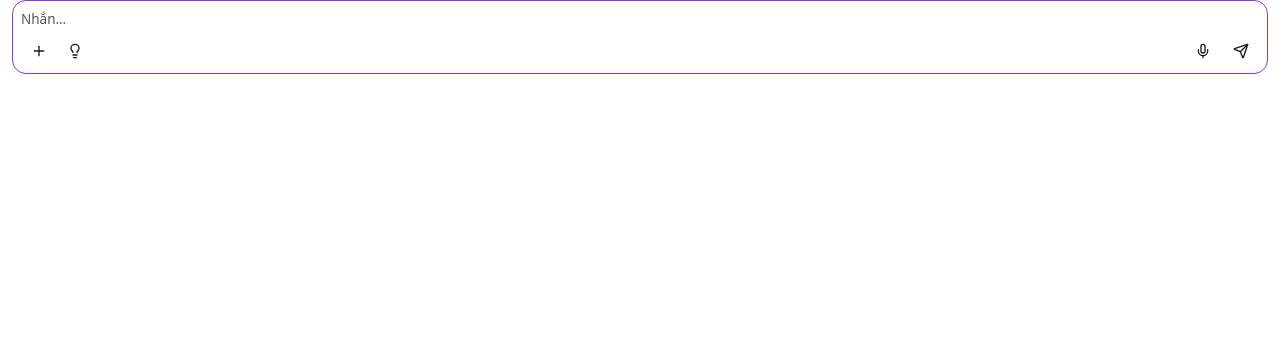
Test: Composer slash skills › opens the skill popup listing all skills when typing "/"
In the text box: point(640, 19) [21, 9, 1259, 29], type "/"
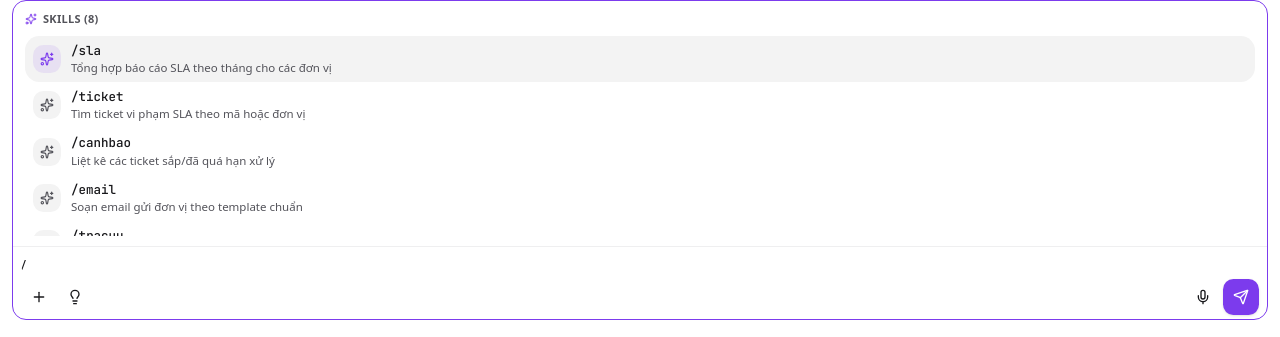
Expected: the text "Skills (8)" is shown, [43, 11, 98, 28]
Expected: the text "/sla" is shown, [71, 42, 101, 58]
